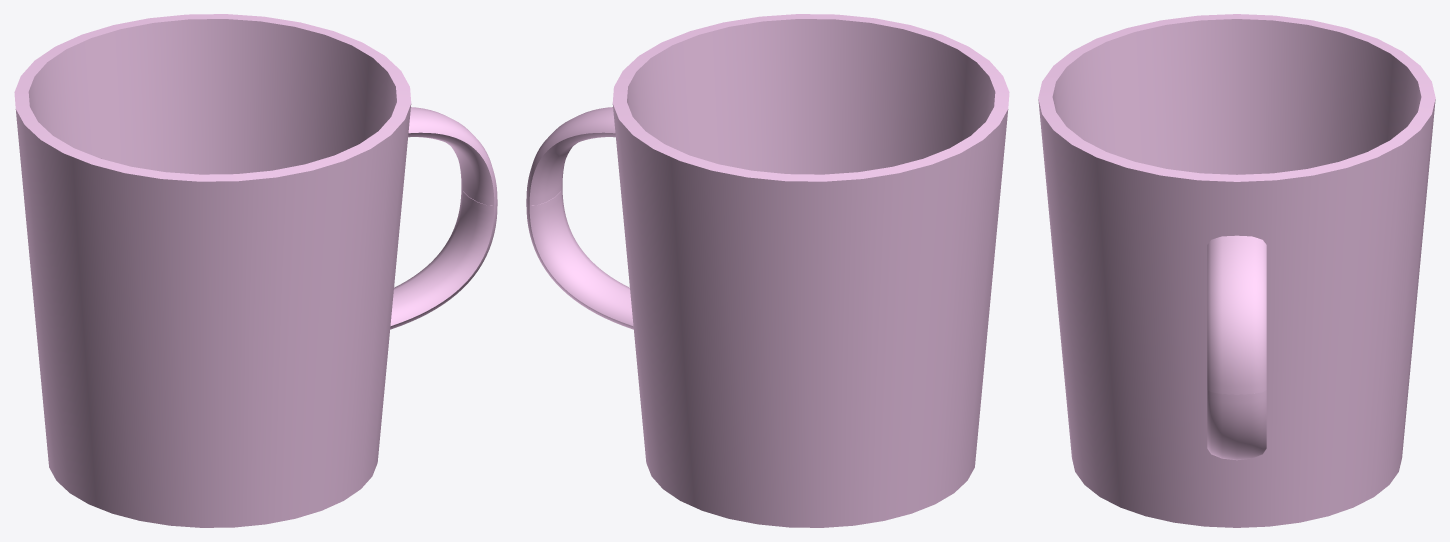
The model's file is ikeaMug1.gltf.
3 views of the same model, side by side, from view 1: azimuth 30°, elevation 25°; view 2: azimuth 150°, elevation 25°; view 3: azimuth 270°, elevation 25° (orthographic).
Parts seen in each view (by area): view 1: IKEAmug1; view 2: IKEAmug1; view 3: IKEAmug1.
Boxes of the visible parts, bbox=[...] form: IKEAmug1: bbox=[14, 14, 497, 527]; IKEAmug1: bbox=[526, 14, 1009, 527]; IKEAmug1: bbox=[1038, 14, 1435, 527].
Size of the model in its own units: 0.1108 by 0.0852 by 0.085.
